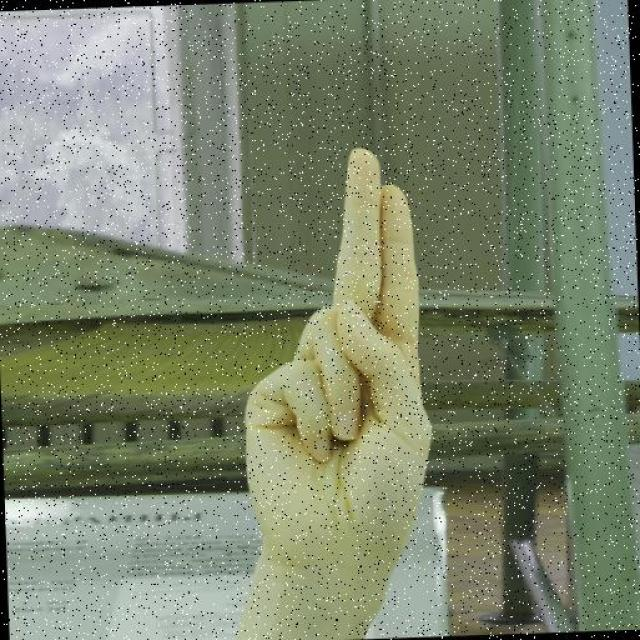U: (224, 139, 445, 572)
